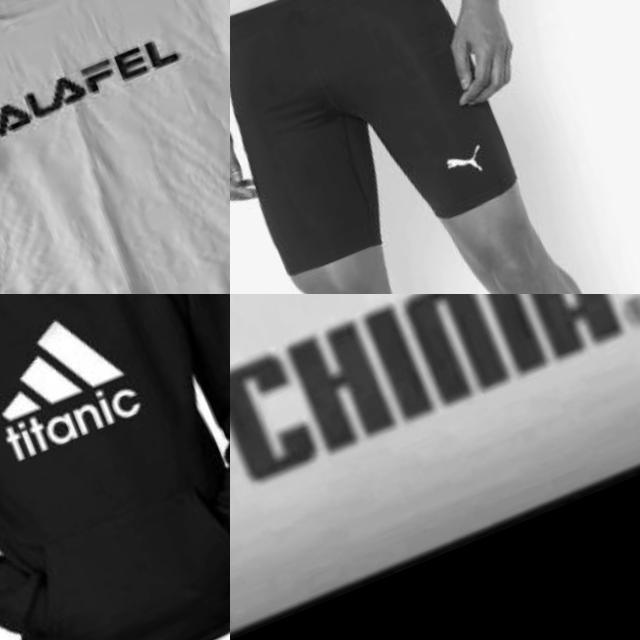ADIDAS_fake: (0, 304, 172, 480)
FILA_fake: (0, 7, 195, 165)
PUMA_fake: (230, 294, 640, 555)
PUMA_original: (428, 120, 512, 200)
